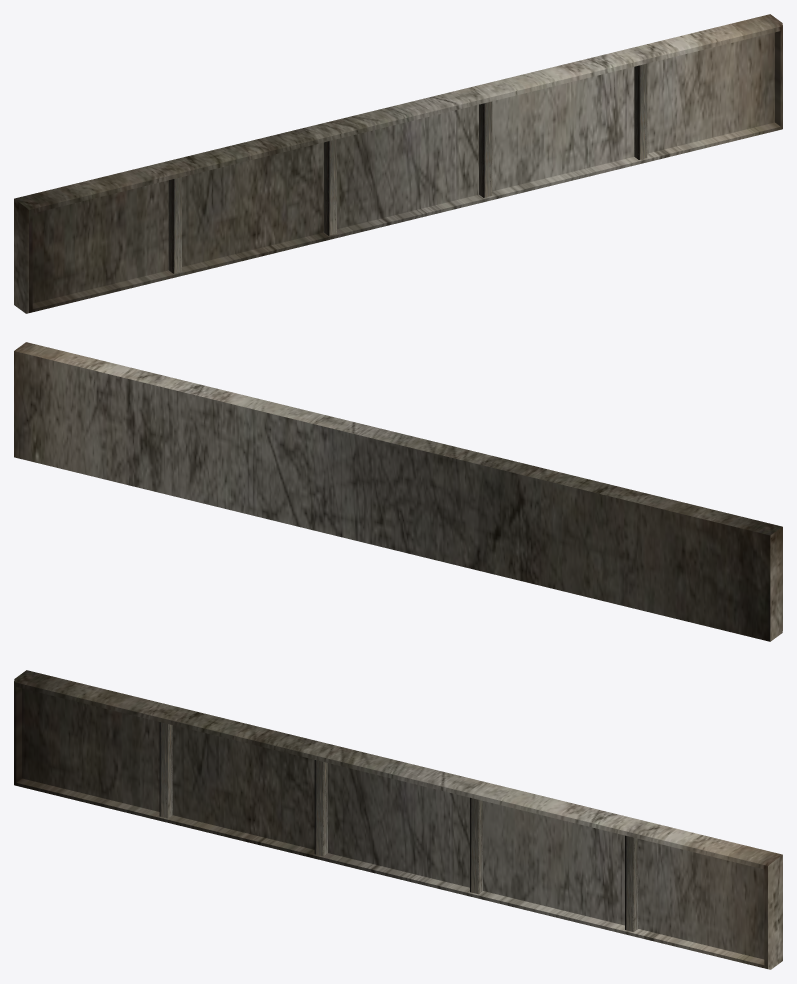
The model's file is bloque_clave_3v3.fbx.
3 renders of one model, top to bottom at view 1: azimuth 30°, elevation 25°; view 2: azimuth 150°, elevation 25°; view 3: azimuth 330°, elevation 25°, orthographic.
Parts seen in each view (by area): view 1: bloque_clave_5, bloque_clave_5.001; view 2: bloque_clave_5; view 3: bloque_clave_5, bloque_clave_5.001.
Part boxes in pixels (x1,y1,x2,y2): bloque_clave_5: [14, 14, 782, 313]; bloque_clave_5.001: [168, 63, 647, 273]; bloque_clave_5: [14, 342, 782, 641]; bloque_clave_5: [14, 670, 782, 969]; bloque_clave_5.001: [159, 722, 638, 931].
Size of the model in its own units: 186 by 25.05 by 6.18.
